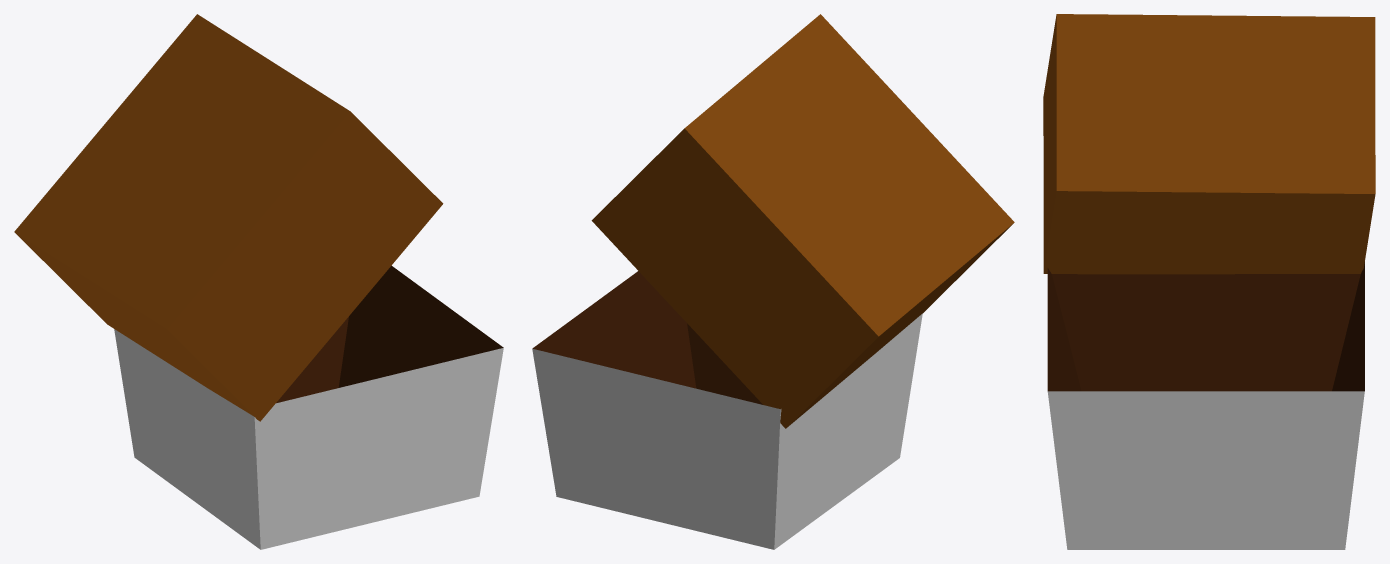
The picture shows the model from 3 angles, left to right: view 1: azimuth 30°, elevation 25°; view 2: azimuth 150°, elevation 25°; view 3: azimuth 270°, elevation 25°; orthographic projection. The views are drawn at different scales.
Parts seen in each view (by area): view 1: Cube.006, Cube, Cube.001; view 2: Cube.006, Cube, Cube.001; view 3: Cube.006, Cube, Cube.001.
Boxes of the visible parts, box(x1,y1,x2,y2) form: Cube.006: box(14, 14, 443, 421); Cube: box(114, 329, 503, 549); Cube.001: box(276, 265, 503, 403); Cube.006: box(591, 14, 1014, 428); Cube: box(532, 313, 922, 549); Cube.001: box(532, 271, 762, 404); Cube.006: box(1043, 14, 1375, 274); Cube: box(1047, 391, 1364, 549); Cube.001: box(1047, 262, 1364, 391).
Bounding box in the file's own units: 3.58 × 4.17 × 2.7.
